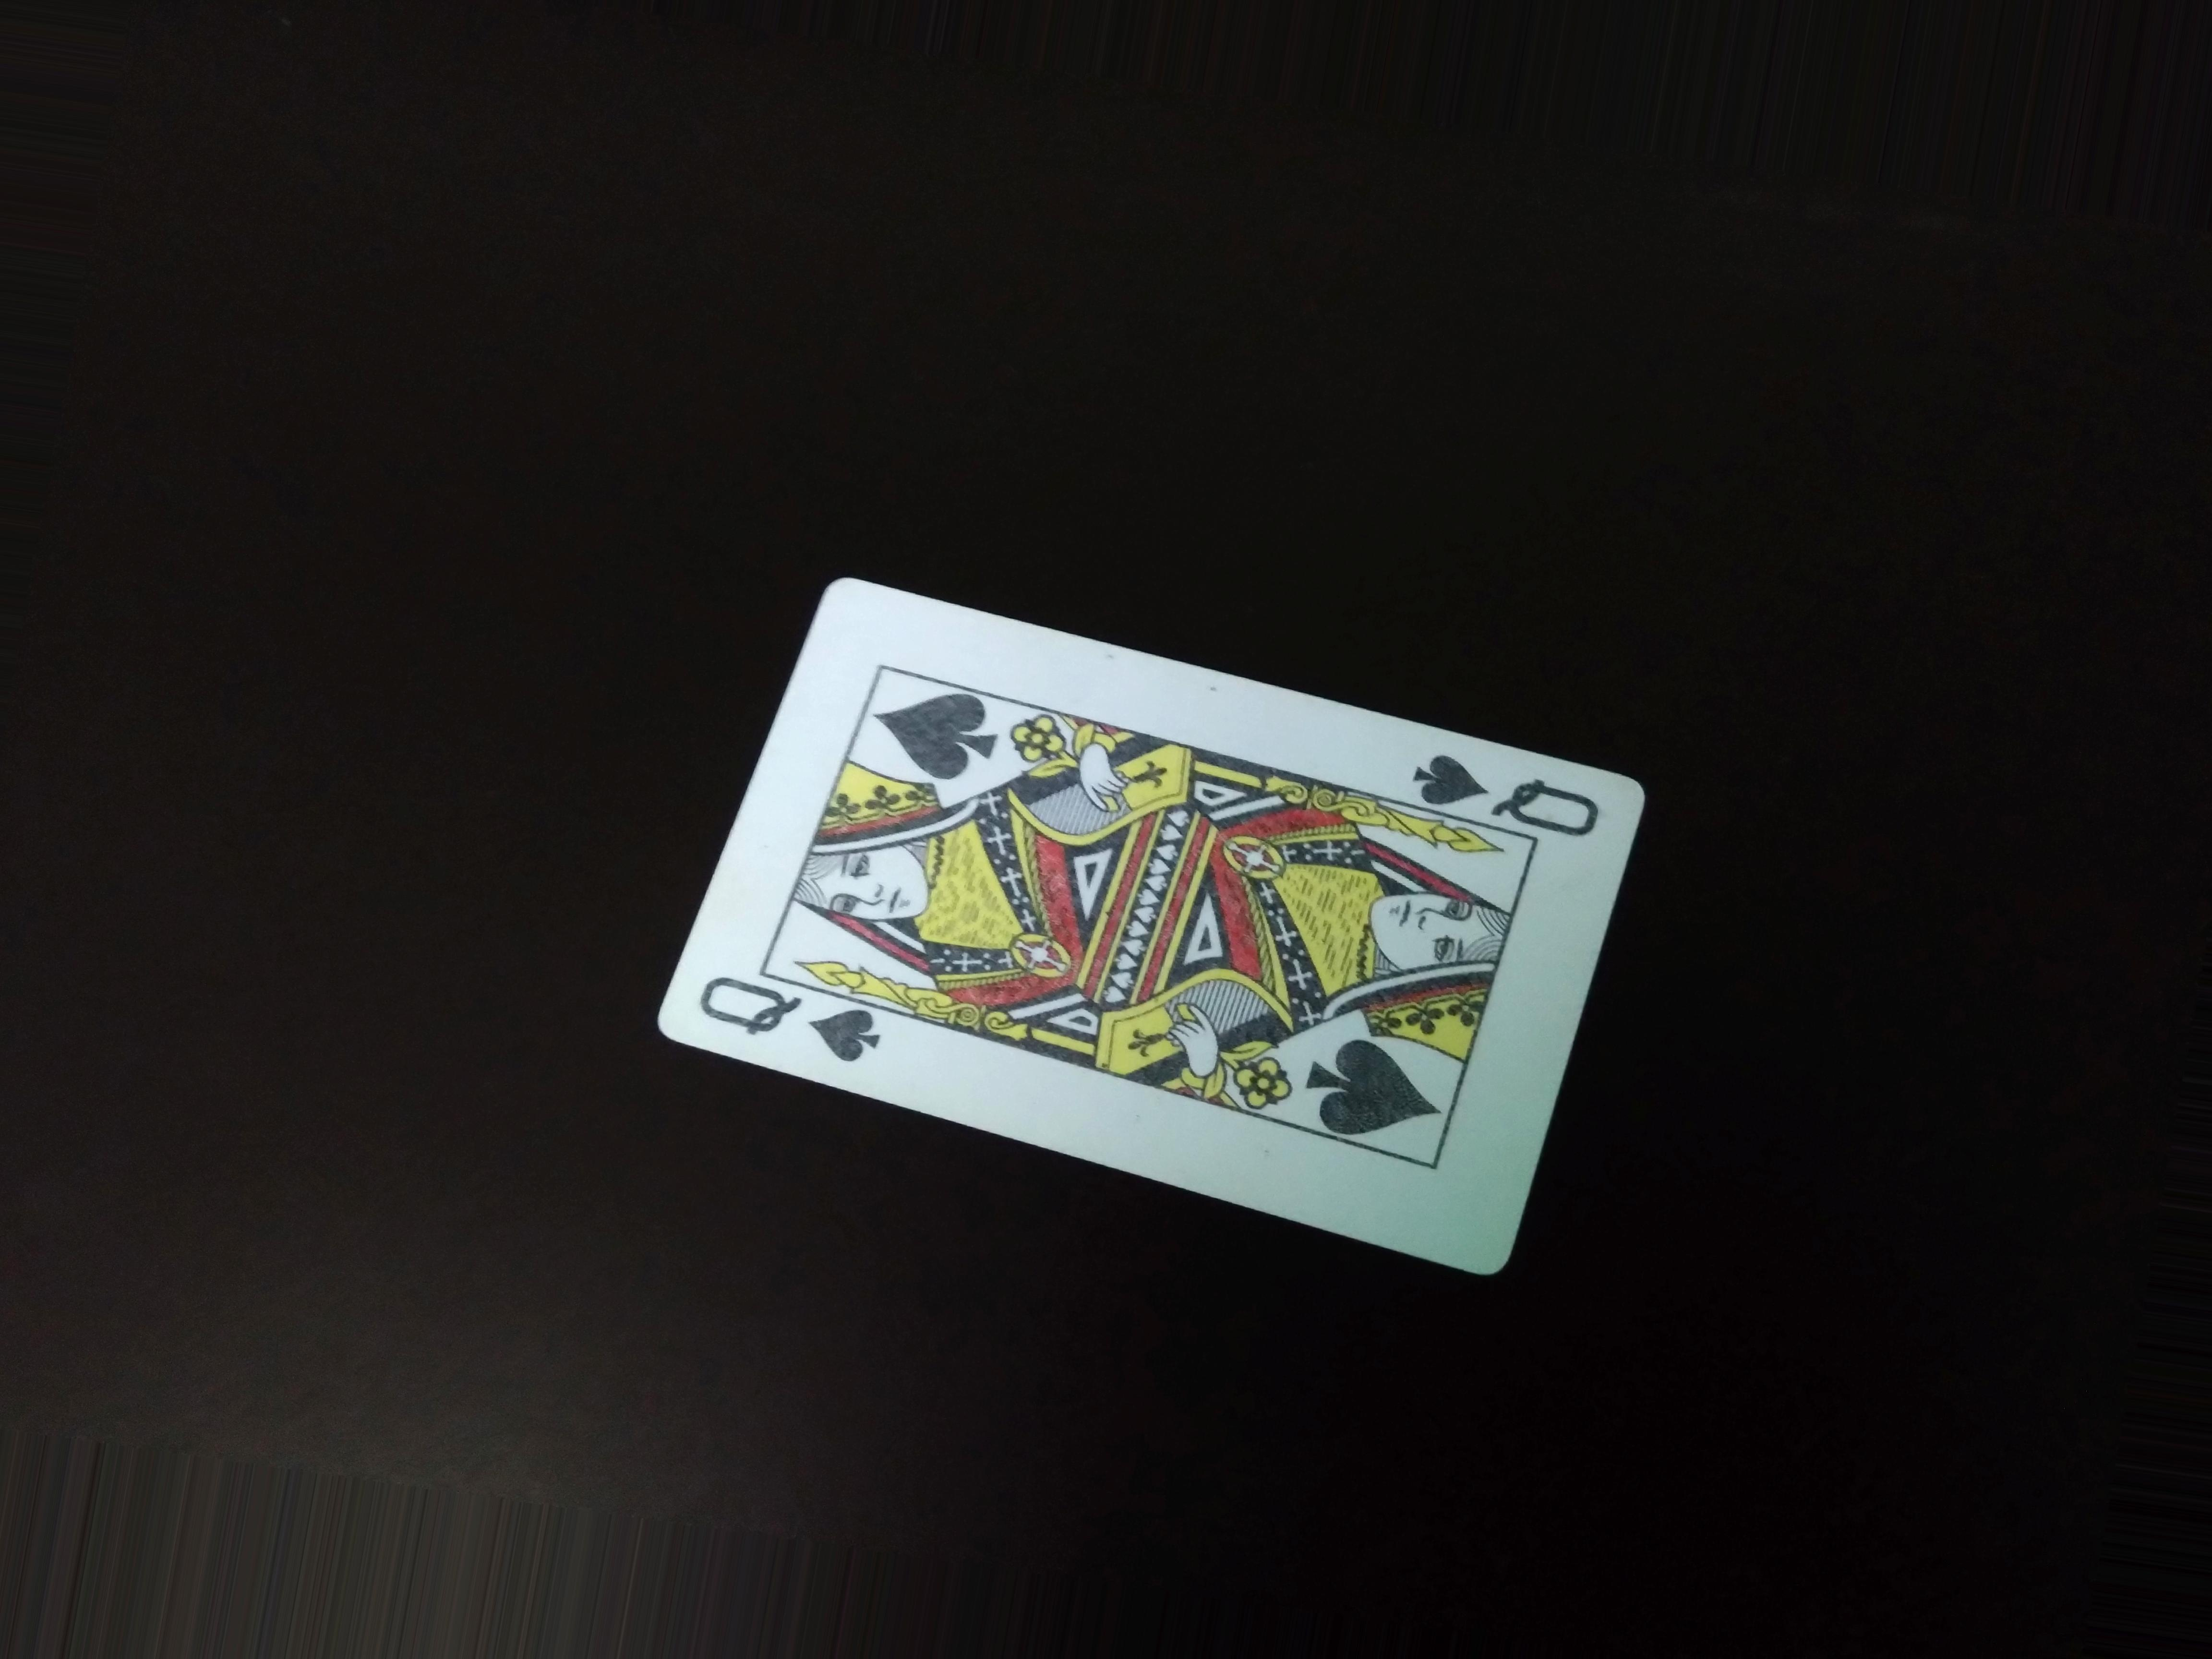QS: (676, 934, 900, 1073)
